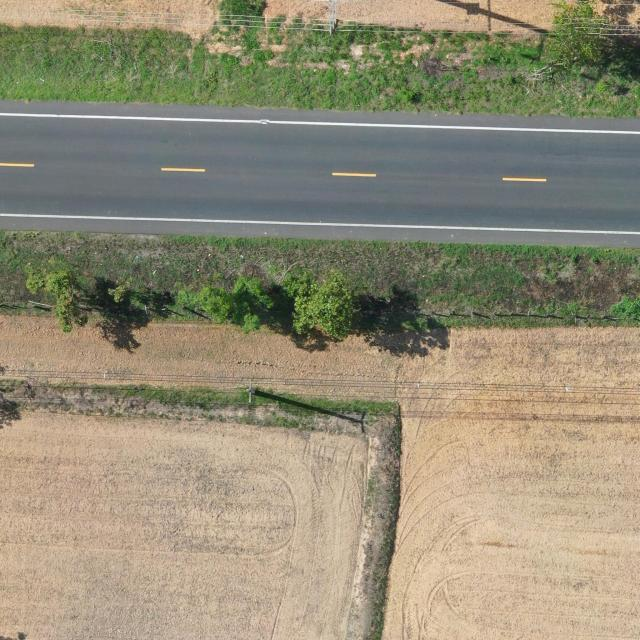Tree: (283, 268, 356, 340), (198, 276, 274, 334), (23, 261, 77, 335), (546, 0, 610, 62), (107, 284, 128, 304)
